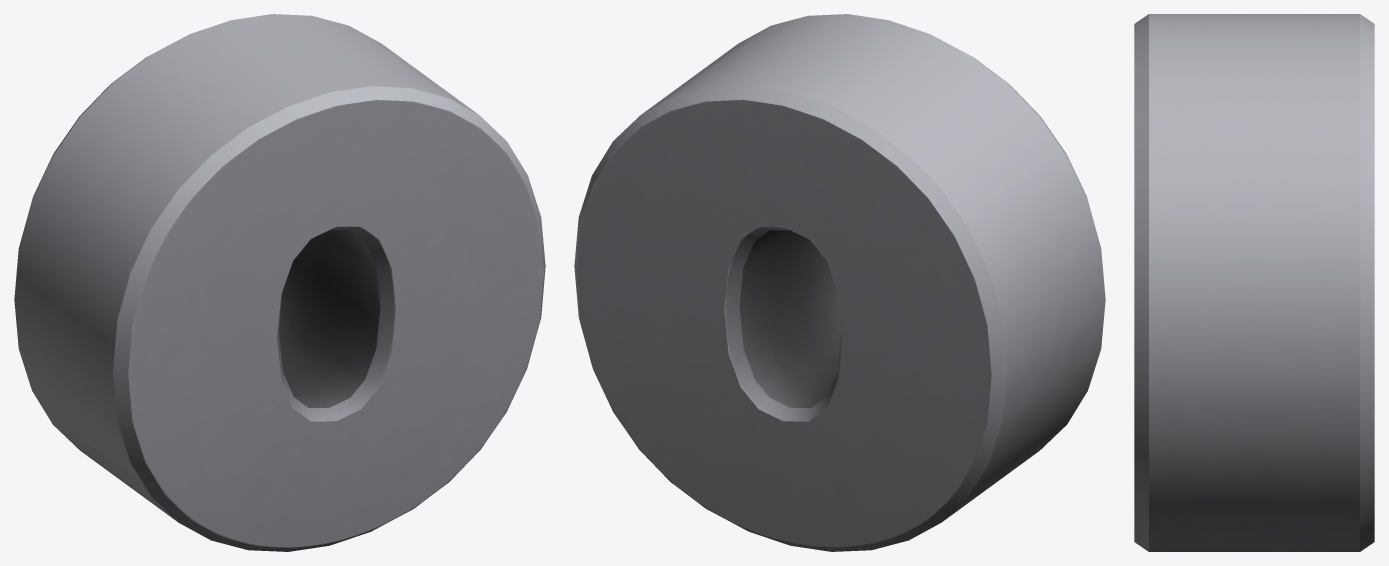
Rendered from o_lowc_static.fbx.
3 renders of one model, left to right at view 1: azimuth 30°, elevation 25°; view 2: azimuth 150°, elevation 25°; view 3: azimuth 270°, elevation 25°, orthographic. The views are drawn at different scales.
Parts seen in each view (by area): view 1: o_lowc_static; view 2: o_lowc_static; view 3: o_lowc_static.
Part boxes in pixels (<box>): o_lowc_static: <box>14,14,545,551</box>; o_lowc_static: <box>574,14,1105,551</box>; o_lowc_static: <box>1134,14,1374,551</box>.
Bounding box in the file's own units: 73.5 × 73.58 × 33.
